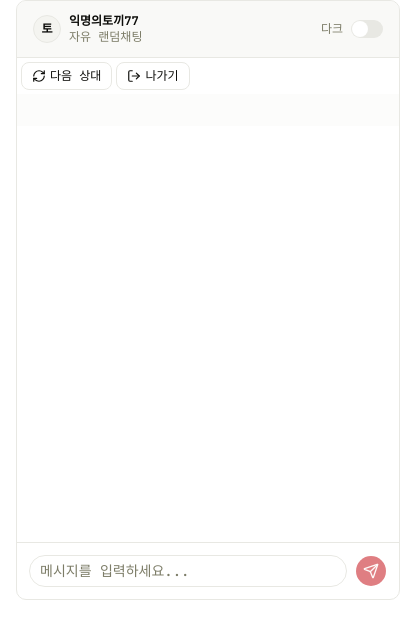
CHAT-004: 자유 랜덤채팅 메시지 전송 › displays sent message as own bubble
Type "안녕하세요" into the field named "메시지 입력" at (188, 571), box left=29, top=555, right=347, bottom=587
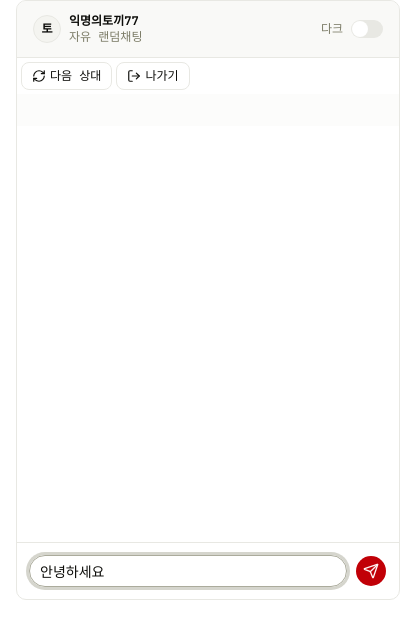
Click the button named "전송" at (371, 571), box left=355, top=555, right=387, bottom=587
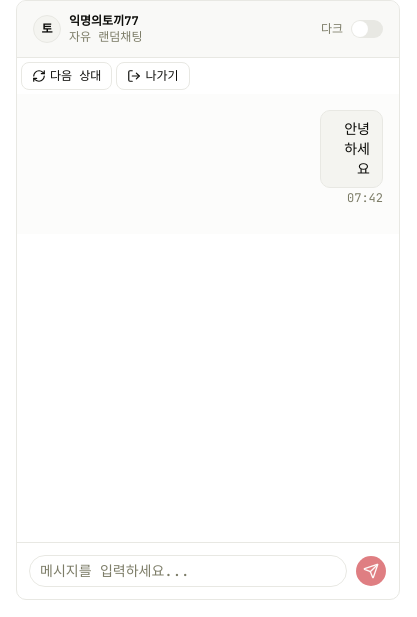
Check: the text "안녕하세요" is shown, box left=320, top=110, right=383, bottom=188
